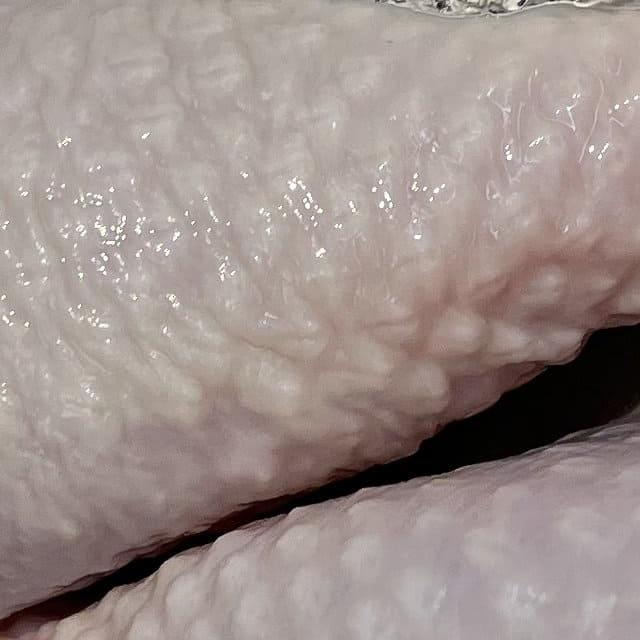chicken: (0, 0, 640, 640), (0, 381, 640, 640)
